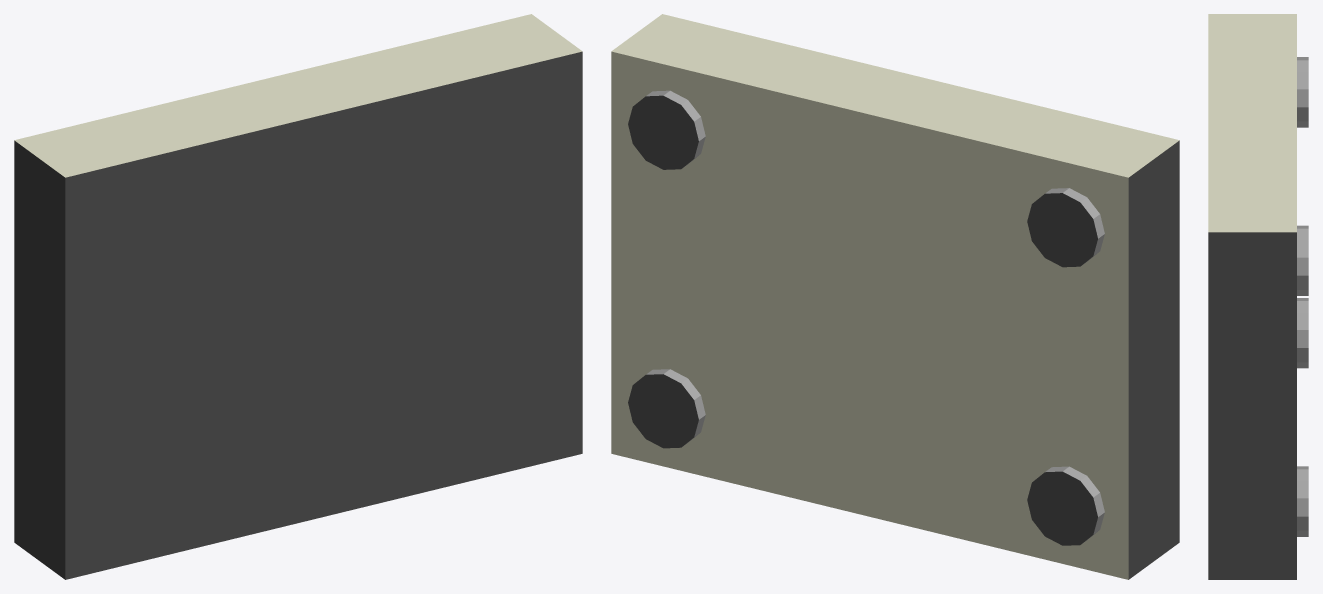
3 views of the same model, side by side, from view 1: azimuth 30°, elevation 25°; view 2: azimuth 150°, elevation 25°; view 3: azimuth 270°, elevation 25° (orthographic). The views are drawn at different scales.
Parts seen in each view (by area): view 1: home stereo cd or dvd player; view 2: home stereo cd or dvd player; view 3: home stereo cd or dvd player.
Part boxes in pixels (box(x1,y1,x2,y2)): home stereo cd or dvd player: box(14, 14, 582, 579); home stereo cd or dvd player: box(611, 14, 1179, 579); home stereo cd or dvd player: box(1208, 14, 1308, 579).
Size of the model in its own units: 17.5 by 13.15 by 3.4.
